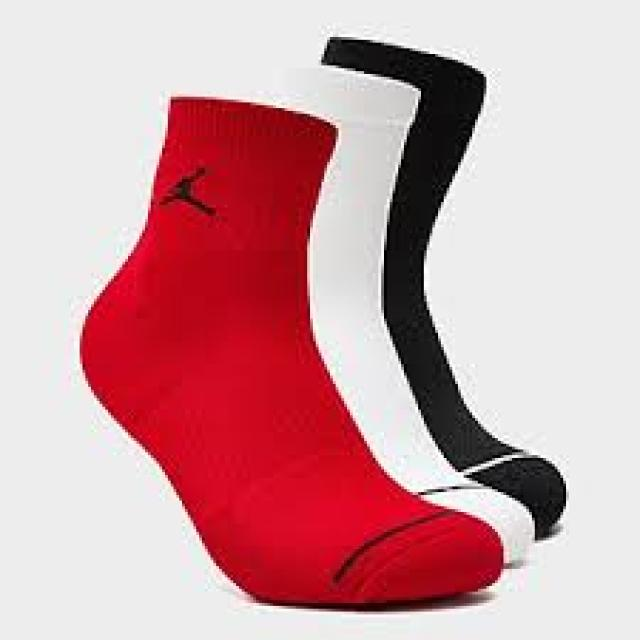sock: (77, 91, 503, 606), (316, 34, 566, 541)
